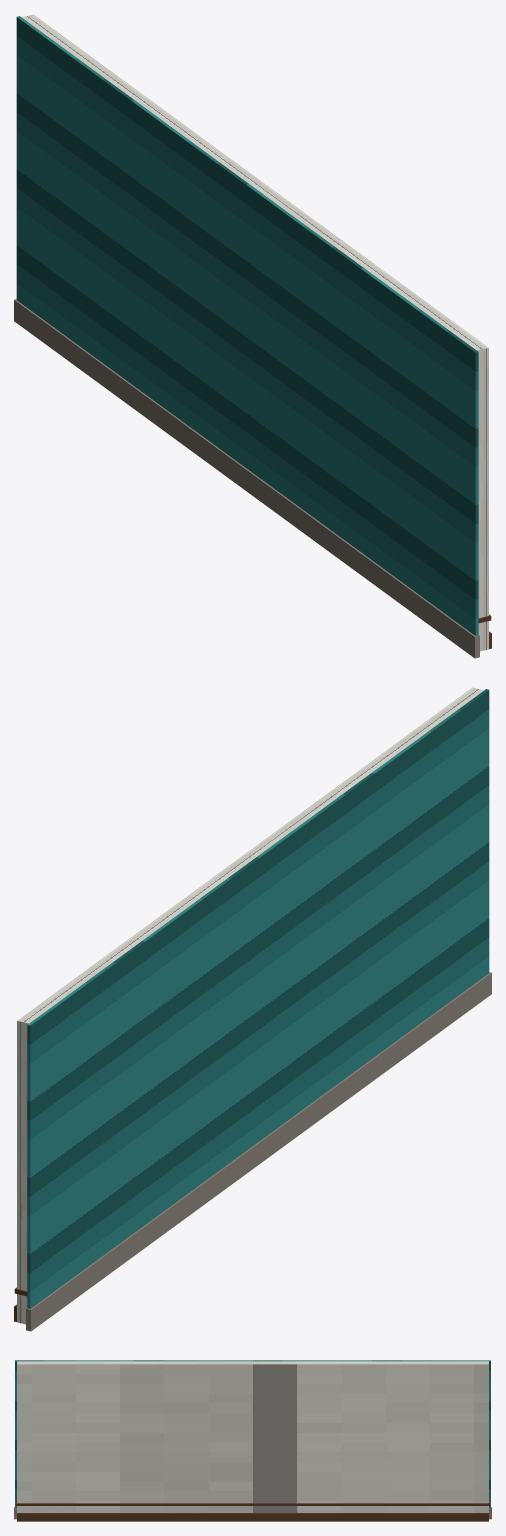
The model's file is left.glb.
3 views of the same model, one above another, from view 1: azimuth 30°, elevation 25°; view 2: azimuth 150°, elevation 25°; view 3: azimuth 270°, elevation 25° (orthographic). The views are drawn at different scales.
Visible parts, largest first — view 1: Box3, Box4, Box1; view 2: Box3, Box4, Box1; view 3: Box1, Box2, Box3, Box6, Box5.
Boxes of the visible parts, x1=… form: Box3: x1=16, y1=16, x2=478, y2=635; Box4: x1=14, y1=299, x2=479, y2=658; Box1: x1=22, y1=14, x2=488, y2=651; Box3: x1=27, y1=689, x2=489, y2=1308; Box4: x1=26, y1=972, x2=491, y2=1331; Box1: x1=17, y1=687, x2=483, y2=1324; Box1: x1=17, y1=1361, x2=488, y2=1512; Box2: x1=17, y1=1513, x2=488, y2=1521; Box3: x1=15, y1=1360, x2=490, y2=1507; Box6: x1=16, y1=1500, x2=489, y2=1505; Box5: x1=19, y1=1506, x2=488, y2=1512.
Size of the model in its own units: 0.25 by 3.64 by 9.97.
Materials: 4 (2 with a texture image).
